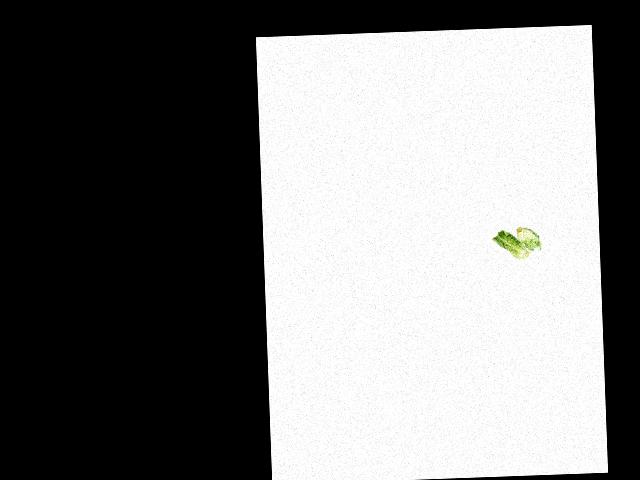lettuce: (514, 222, 542, 252)
